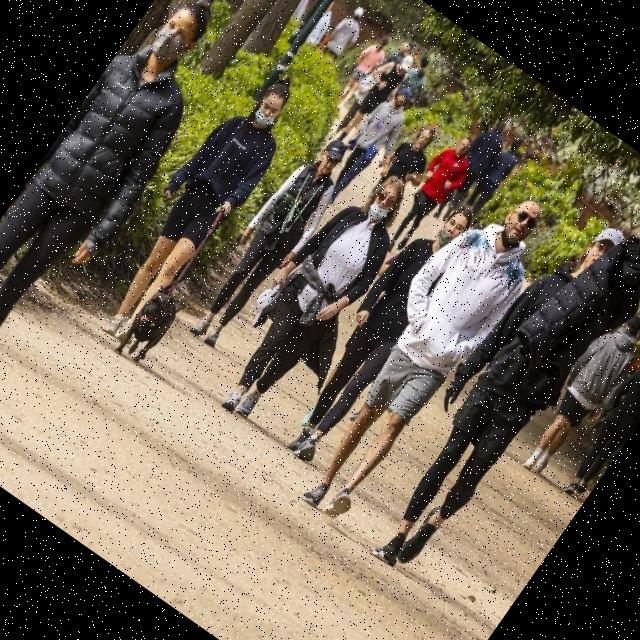Person: (344, 196, 640, 597), (0, 0, 253, 432), (274, 169, 568, 533), (78, 54, 319, 354), (196, 152, 430, 436), (266, 190, 486, 470), (176, 125, 364, 358), (509, 300, 640, 484), (312, 76, 428, 215), (374, 127, 486, 263), (551, 341, 640, 503), (322, 42, 420, 162), (428, 110, 518, 223), (369, 118, 449, 208), (458, 131, 531, 221), (328, 28, 398, 110), (316, 0, 374, 66), (389, 51, 441, 108)
